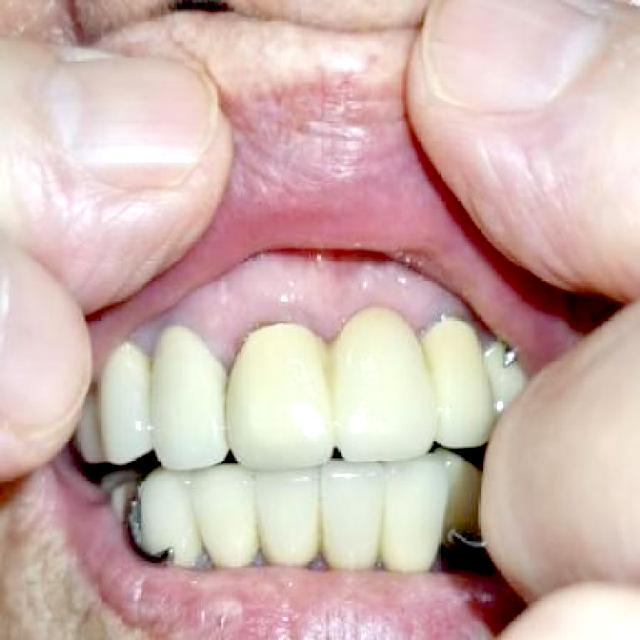Plaque: (124, 256, 469, 357)
